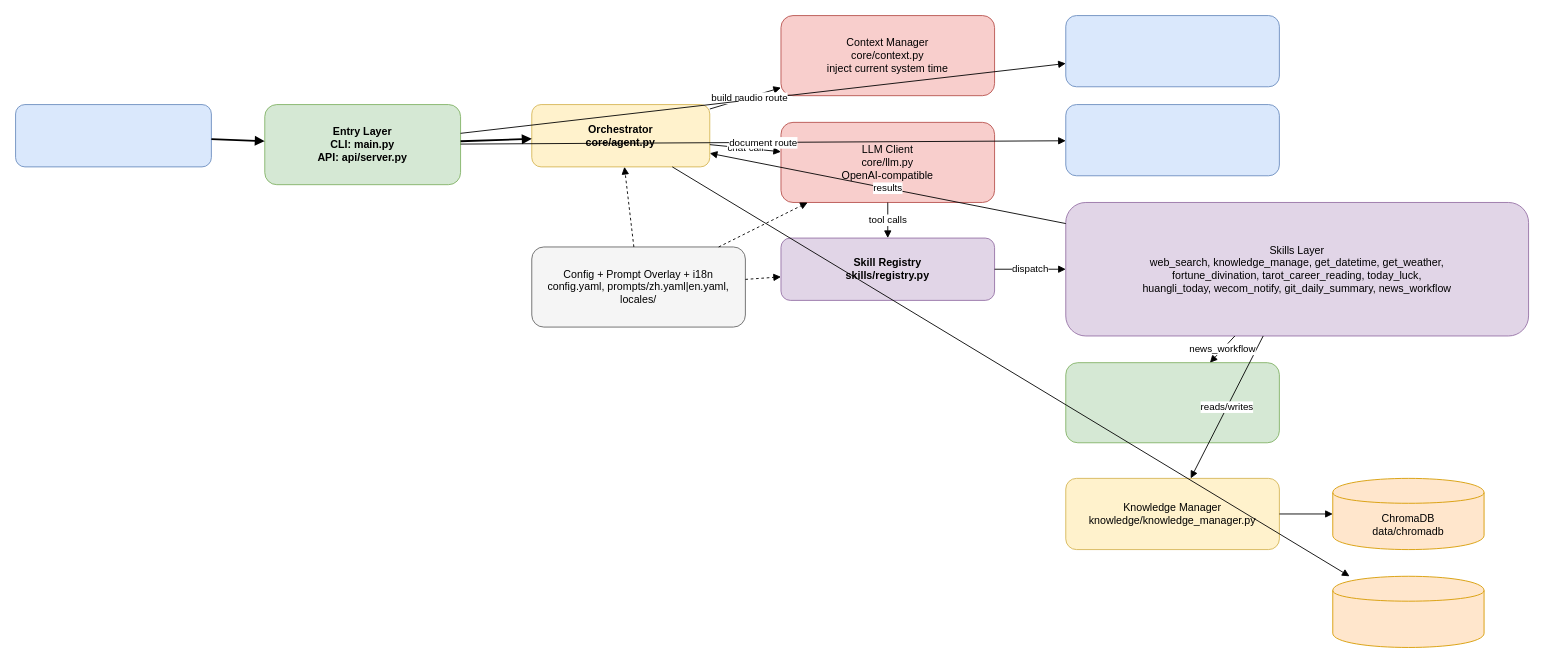
This 1544x663 diagram has some shape labels left out. Each missing label, with the centre of its shape:
Document Parser skills/document_skill.py: point (1172, 140)
SQLite data/agent.db: point (1408, 611)
STT Engines disabled | openai | dashscope: point (1172, 51)
User Input (text/image/audio/document): point (113, 135)
Workflow Service skills/workflow_service.py local timeline server: point (1172, 402)
